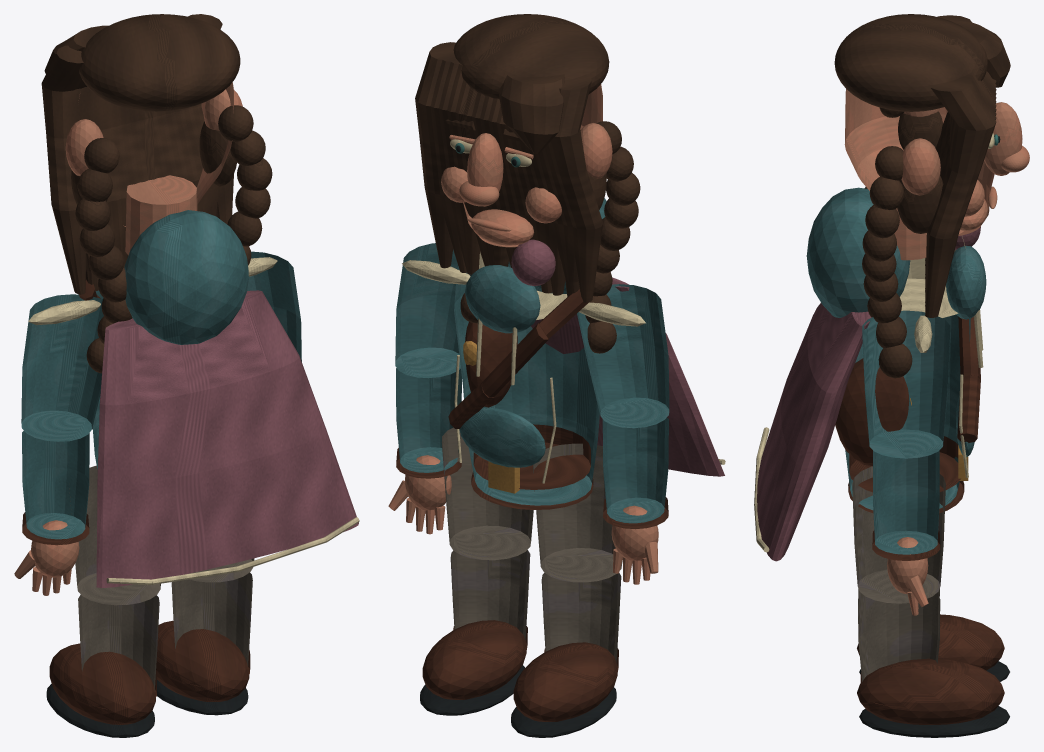
The model's file is windfall-companion-b.glb.
The picture shows the model from 3 angles, left to right: view 1: azimuth 30°, elevation 25°; view 2: azimuth 150°, elevation 25°; view 3: azimuth 270°, elevation 25°; orthographic projection. The views are drawn at different scales.
Parts seen in each view (by area): view 1: cape-surface-scarf, head-surface-hair, body-surface-coat, arm-L-surface-coat, forearm-L-surface-coat, foot-L-surface-leather, foot-R-surface-leather, shin-L-surface-pants, shin-R-surface-pants, neck-surface-skin, leg-L-surface-pants, head-surface-skin (+8 smaller); view 2: head-surface-hair, body-surface-coat, body-surface-leather, arm-L-surface-coat, head-surface-skin, leg-L-surface-pants, arm-R-surface-coat, foot-L-surface-leather, foot-R-surface-leather, leg-R-surface-pants, forearm-L-surface-coat, shin-L-surface-pants (+13 smaller); view 3: head-surface-hair, cape-surface-scarf, body-surface-coat, head-surface-skin, body-surface-leather, foot-R-surface-leather, arm-R-surface-coat, forearm-R-surface-coat, shin-R-surface-pants, leg-R-surface-pants, foot-L-surface-leather, foot-R-surface-dark (+6 smaller).
Part boxes in pixels (left/top/right/bottom): cape-surface-scarf: left=96, top=290, right=358, bottom=587; head-surface-hair: left=41, top=14, right=272, bottom=373; body-surface-coat: left=81, top=210, right=248, bottom=469; arm-L-surface-coat: left=21, top=294, right=103, bottom=441; forearm-L-surface-coat: left=22, top=431, right=89, bottom=539; foot-L-surface-leather: left=49, top=643, right=155, bottom=724; foot-R-surface-leather: left=156, top=620, right=249, bottom=701; shin-L-surface-pants: left=78, top=594, right=159, bottom=690; shin-R-surface-pants: left=171, top=572, right=252, bottom=666; neck-surface-skin: left=125, top=175, right=197, bottom=255; leg-L-surface-pants: left=69, top=465, right=160, bottom=605; head-surface-skin: left=65, top=82, right=242, bottom=226; head-surface-hair: left=415, top=14, right=640, bottom=353; body-surface-coat: left=454, top=198, right=606, bottom=505; body-surface-leather: left=448, top=289, right=593, bottom=509; arm-L-surface-coat: left=577, top=284, right=669, bottom=428; head-surface-skin: left=441, top=84, right=612, bottom=247; leg-L-surface-pants: left=533, top=443, right=622, bottom=582; arm-R-surface-coat: left=395, top=243, right=460, bottom=378; foot-L-surface-leather: left=513, top=642, right=617, bottom=721; foot-R-surface-leather: left=422, top=620, right=526, bottom=699; leg-R-surface-pants: left=441, top=427, right=533, bottom=560; forearm-L-surface-coat: left=602, top=417, right=668, bottom=523; shin-L-surface-pants: left=541, top=573, right=621, bottom=662; head-surface-hair: left=834, top=14, right=1010, bottom=378; cape-surface-scarf: left=757, top=303, right=871, bottom=561; body-surface-coat: left=806, top=187, right=986, bottom=510; head-surface-skin: left=844, top=89, right=1029, bottom=235; body-surface-leather: left=835, top=316, right=980, bottom=513; foot-R-surface-leather: left=857, top=658, right=1004, bottom=724; arm-R-surface-coat: left=862, top=310, right=950, bottom=458; forearm-R-surface-coat: left=873, top=450, right=939, bottom=554; shin-R-surface-pants: left=858, top=593, right=940, bottom=681; leg-R-surface-pants: left=852, top=466, right=945, bottom=603; foot-L-surface-leather: left=857, top=614, right=1004, bottom=670; foot-R-surface-dark: left=859, top=706, right=1009, bottom=737.
Size of the model in its own units: 0.9886 by 2.35 by 0.8702.
10 materials, 10 textured.
